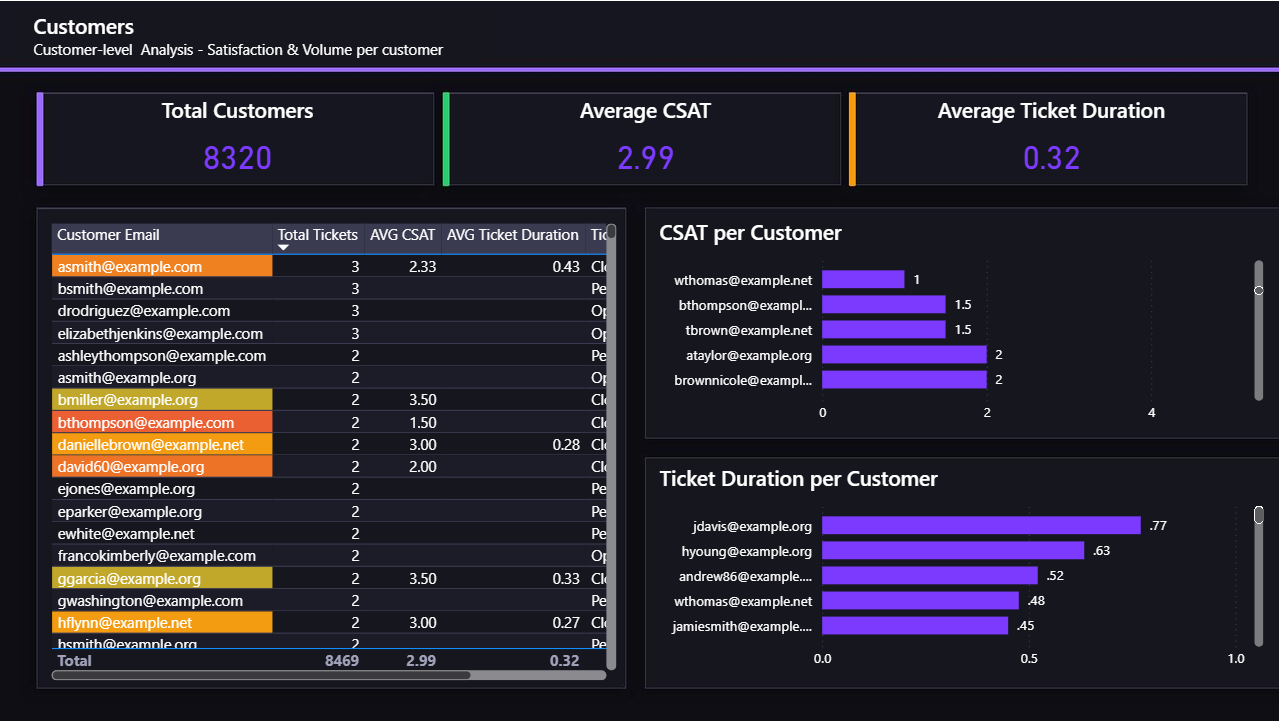

The dashboard page shown, as its layout file describes it:
{"tool":"powerbi","page":{"name":"Customers","canvas":[1280,720],"ordinal":4},"visuals":[{"type":"textbox","box":[106.8,43.1,407.6,52.1],"z":0},{"type":"card","title":"Total Customers","fields":{"Values":["_Measure.10 Total de Clientes Unicos"]},"box":[122.1,123.9,345.6,81.7],"z":1000},{"type":"card","title":"Average CSAT","fields":{"Values":["_Measure.06 AVG CSAT"]},"box":[488.4,123.9,345.6,81.7],"z":2000},{"type":"card","title":"Average Ticket Duration","fields":{"Values":["_Measure.07 AVG Ticket Duration"]},"box":[852.9,123.9,345.6,81.7],"z":3000},{"type":"tableEx","title":"Tickets by  Type","fields":{"Values":["customer_support_tickets.Customer Email","_Measure.01 Total Tickets","_Measure.06 AVG CSAT","_Measure.07 AVG Ticket Duration","customer_support_tickets.Ticket Status"]},"box":[122.1,233.4,518,420.1],"z":4000},{"type":"clusteredBarChart","title":"CSAT per Customer","fields":{"Y":["_Measure.06 AVG CSAT"],"Category":["customer_support_tickets.Customer Email"]},"box":[668.8,233.4,552.1,193],"z":5000},{"type":"clusteredBarChart","title":"Ticket Duration per Customer ","fields":{"Category":["customer_support_tickets.Customer Email"],"Y":["_Measure.07 AVG Ticket Duration"]},"box":[668.8,454.3,552.1,193],"z":6000}]}

Visuals, with their boxes in screenshot pixels (x1, y1, x2, y2), scaled from the page's 1280x720 canvas onto the 1279x722 screenshot:
textbox: l=107, t=43, r=514, b=95
"Total Customers" card: l=122, t=124, r=467, b=206
"Average CSAT" card: l=488, t=124, r=833, b=206
"Average Ticket Duration" card: l=852, t=124, r=1198, b=206
"Tickets by  Type" tableEx: l=122, t=234, r=640, b=655
"CSAT per Customer" clusteredBarChart: l=668, t=234, r=1220, b=428
"Ticket Duration per Customer " clusteredBarChart: l=668, t=456, r=1220, b=649
